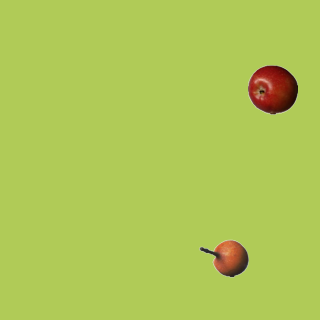Apple Braeburn: (247, 64, 297, 114)
Granadilla: (198, 233, 248, 283)
